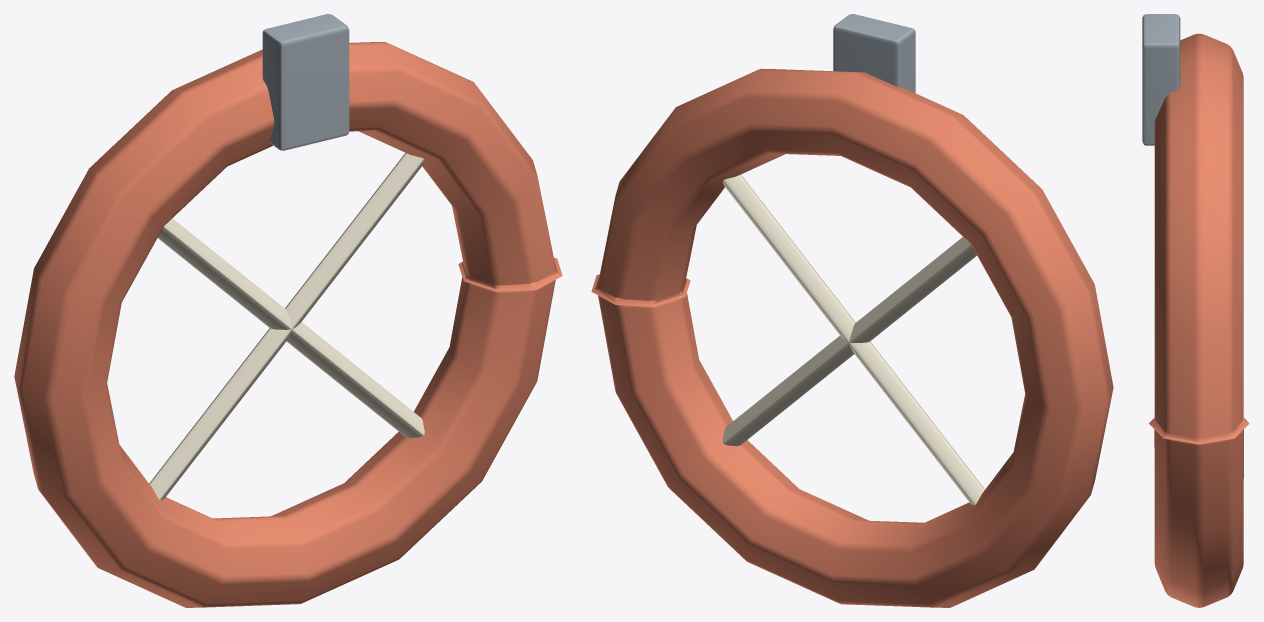
Rendered from life_ring.glb.
3 renders of one model, left to right at view 1: azimuth 30°, elevation 25°; view 2: azimuth 150°, elevation 25°; view 3: azimuth 270°, elevation 25°, orthographic. The views are drawn at different scales.
Visible parts, largest first — view 1: life_ring; view 2: life_ring; view 3: life_ring.
Part boxes in pixels (x1,y1,x2,y2): life_ring: (14,14,562,607); life_ring: (591,14,1113,607); life_ring: (1142,14,1249,607).
Bounding box in the file's own units: 0.7651 × 0.8037 × 0.1415.
